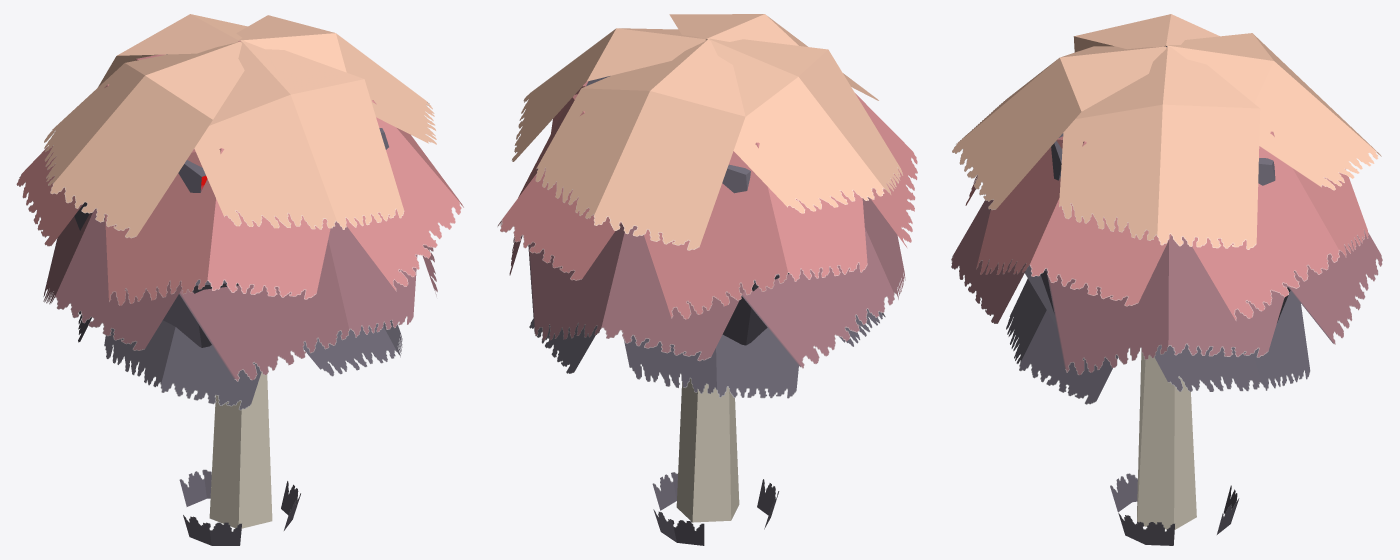
The model's file is arbol 1.fbx.
3 views of the same model, side by side, from view 1: azimuth 30°, elevation 25°; view 2: azimuth 150°, elevation 25°; view 3: azimuth 270°, elevation 25° (orthographic).
Visible parts, largest first — view 1: tronco; view 2: tronco; view 3: tronco.
Boxes of the visible parts, x1,y1,x2,y2 form: tronco: [16, 14, 463, 545]; tronco: [497, 14, 917, 545]; tronco: [951, 14, 1382, 545].
Bounding box in the file's own units: 274 × 331 × 274.
